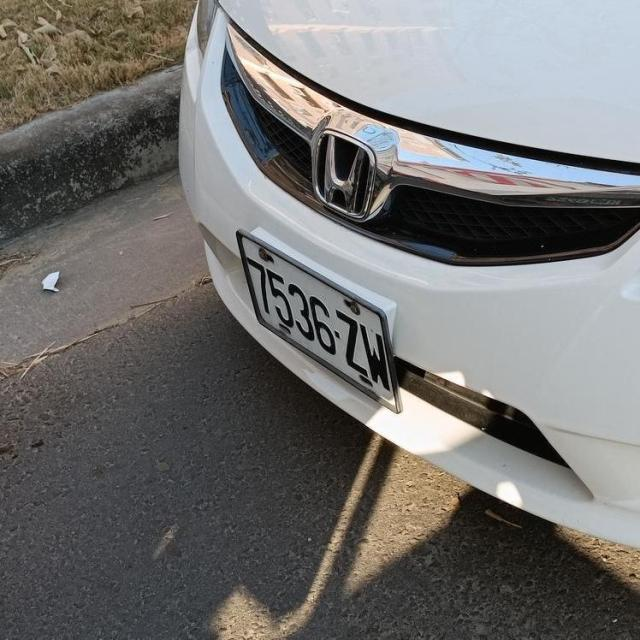W: (230, 227, 414, 420)
